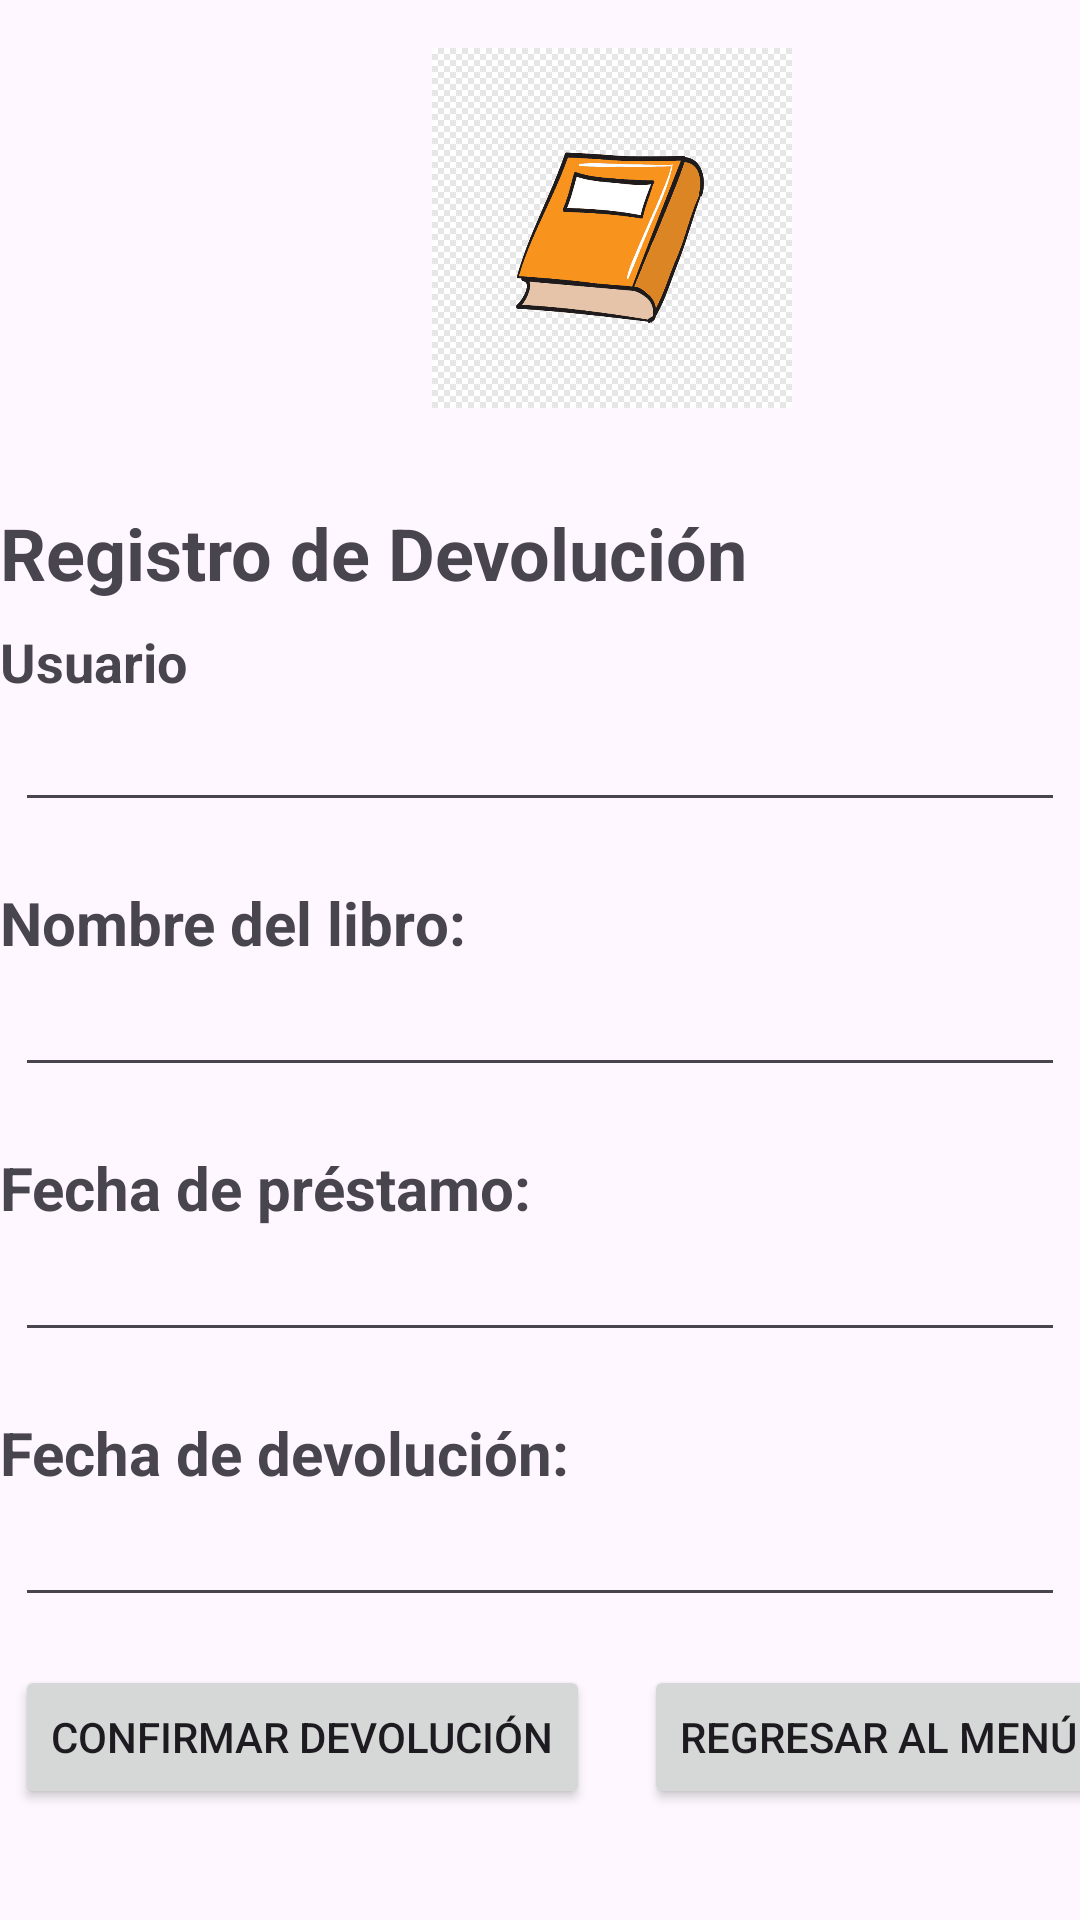

Screen size 1080×1920. Icon name, then its center in pixels as (x,y):
libro: (612,228)
